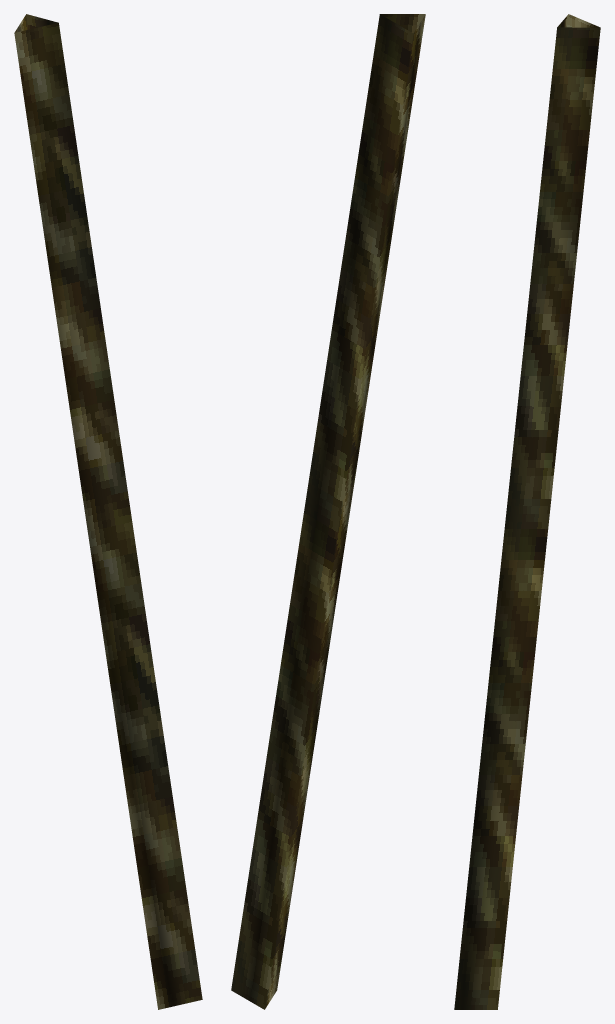
Rendered from OVERHILL_A_01_ROPE_LINE_18.fbx.
3 views of the same model, side by side, from view 1: azimuth 30°, elevation 25°; view 2: azimuth 210°, elevation 25°; view 3: azimuth 270°, elevation 25° (orthographic). The views are drawn at different scales.
Parts seen in each view (by area): view 1: OVERHILL_A_01_ROPE_LINE_18; view 2: OVERHILL_A_01_ROPE_LINE_18; view 3: OVERHILL_A_01_ROPE_LINE_18.
Boxes of the visible parts, box(x1,y1,x2,y2) form: OVERHILL_A_01_ROPE_LINE_18: box(14, 14, 202, 1009); OVERHILL_A_01_ROPE_LINE_18: box(231, 14, 425, 1009); OVERHILL_A_01_ROPE_LINE_18: box(454, 14, 600, 1009).
Size of the model in its own units: 1525 by 10845 by 1525.
1 material, 1 textured.
